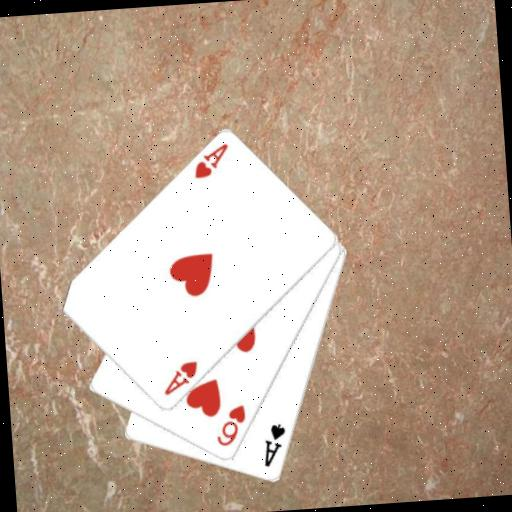6H: (211, 401, 249, 449)
AH: (189, 141, 232, 182), (159, 358, 202, 398)
AS: (258, 421, 290, 470)
